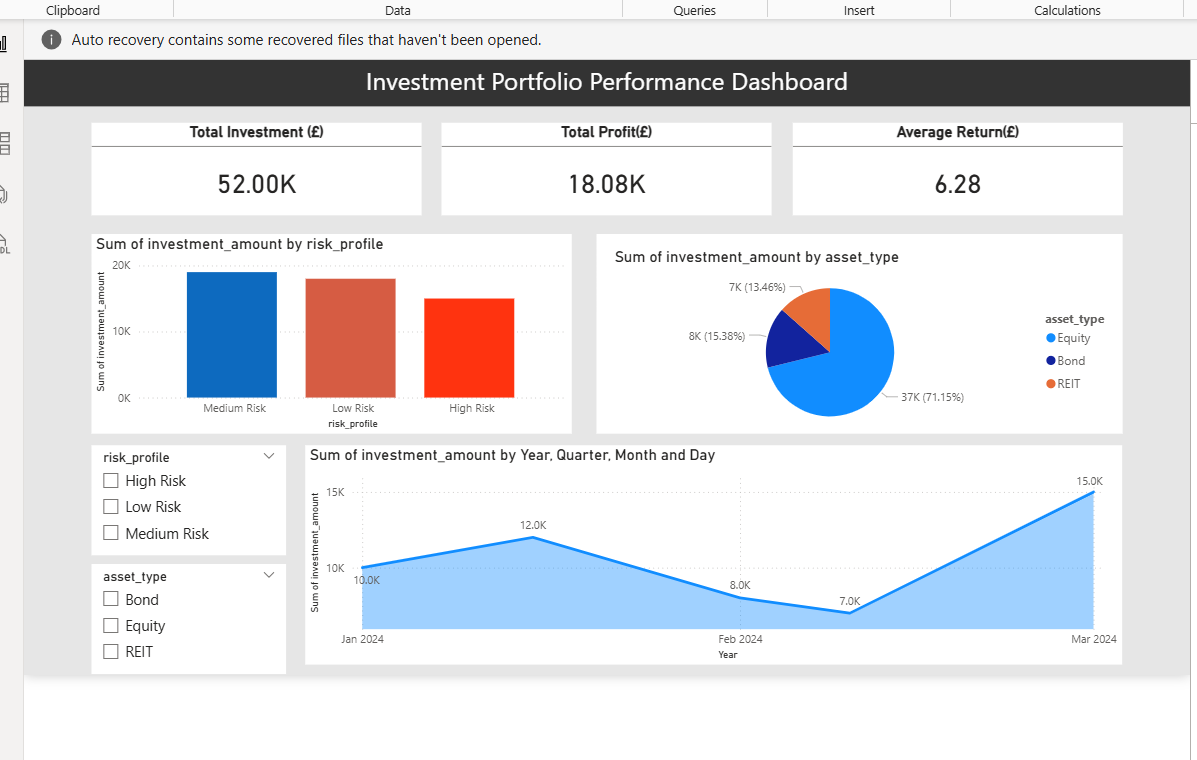

The dashboard page shown, as its layout file describes it:
{"tool":"powerbi","page":{"name":"Page 1","canvas":[1280,720],"ordinal":0},"visuals":[{"type":"textbox","box":[0,43.9,1280.3,52.1],"z":0},{"type":"card","title":"Total Investment (£)","fields":{"Values":["Sum(public transactions.investment_amount)"]},"box":[74.1,113.9,362.3,101.5],"z":1000},{"type":"card","title":"Total Profit(£)","fields":{"Values":["Sum(public transactions.Total Profit)"]},"box":[458.3,113.9,362.3,101.5],"z":2000},{"type":"card","title":"Average Return(£)","fields":{"Values":["Avg(public transactions.return_percentage)"]},"box":[843.9,113.9,362.3,101.5],"z":3000},{"type":"clusteredColumnChart","fields":{"Category":["public clients.risk_profile"],"Y":["Sum(public transactions.investment_amount)"]},"box":[74.1,236,526.9,219.6],"z":4000},{"type":"pieChart","fields":{"Category":["public assets.asset_type"],"Y":["Sum(public transactions.investment_amount)"]},"box":[628.5,236,577.7,219.6],"z":5000},{"type":"lineChart","fields":{"Y":["Sum(public transactions.investment_amount)"],"Category":["public transactions.transaction_date.Variation.Date Hierarchy.Year","public transactions.transaction_date.Variation.Date Hierarchy.Quarter","public transactions.transaction_date.Variation.Date Hierarchy.Month","public transactions.transaction_date.Variation.Date Hierarchy.Day"]},"box":[309.3,467.5,896.6,240.9],"z":6000},{"type":"slicer","fields":{"Values":["public clients.risk_profile"]},"box":[74.1,467.5,213.8,121.2],"z":6001},{"type":"slicer","fields":{"Values":["public assets.asset_type"]},"box":[74.1,598.7,213.8,121.2],"z":6002}]}

Visuals, with their boxes on the page's 1280x720 design canvas (x1, y1, x2, y2). These are canvas units, not pixel positions in the 1197x760 screenshot, which may show the page scaled, cropped or inside an application window:
textbox: (left=0, top=44, right=1280, bottom=96)
"Total Investment (£)" card: (left=74, top=114, right=436, bottom=215)
"Total Profit(£)" card: (left=458, top=114, right=821, bottom=215)
"Average Return(£)" card: (left=844, top=114, right=1206, bottom=215)
clusteredColumnChart - public clients.risk_profile x Sum(public transactions.investment_amount): (left=74, top=236, right=601, bottom=456)
pieChart - public assets.asset_type x Sum(public transactions.investment_amount): (left=628, top=236, right=1206, bottom=456)
lineChart - Sum(public transactions.investment_amount) x public transactions.transaction_date.Variation.Date Hierarchy.Year: (left=309, top=468, right=1206, bottom=708)
slicer - public clients.risk_profile: (left=74, top=468, right=288, bottom=589)
slicer - public assets.asset_type: (left=74, top=599, right=288, bottom=720)
